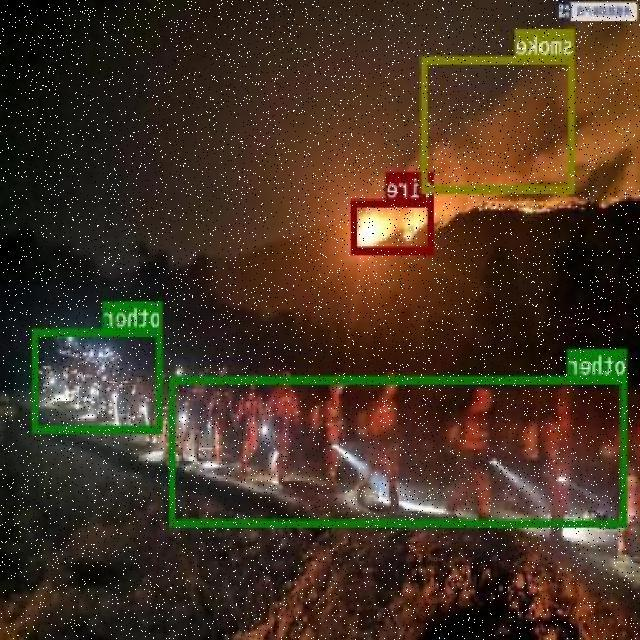other: (170, 374, 628, 526), (34, 326, 163, 432)
smoke: (422, 55, 576, 192)
